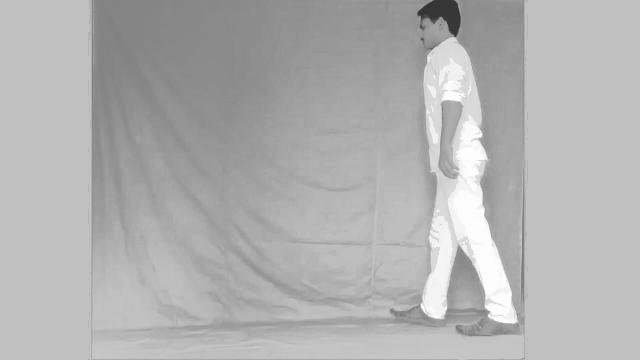berjalan: (382, 0, 514, 340)
